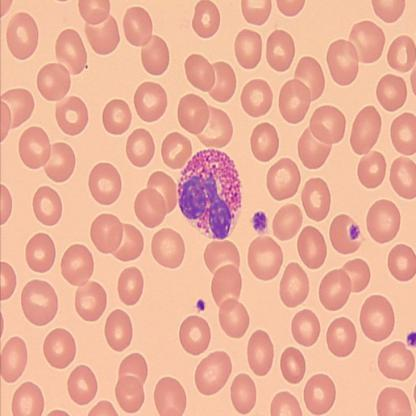Eosinophil: (178, 146, 242, 241)
